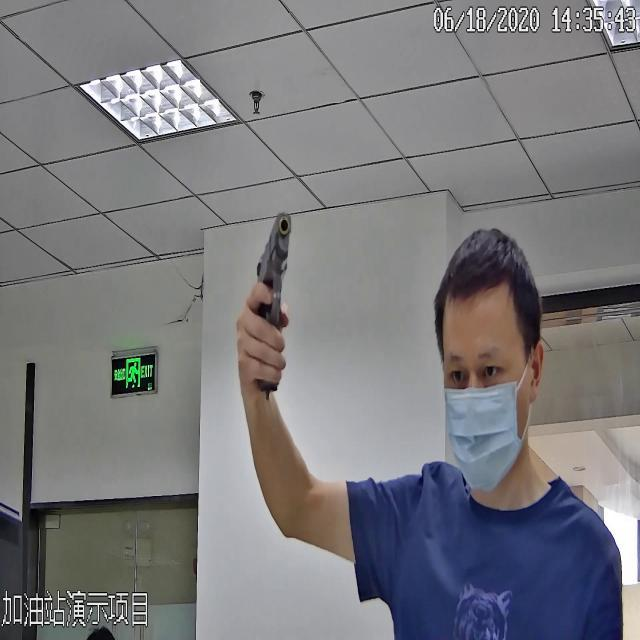gun-knife-thesis - v11 Yolov5 augmented: (235, 214, 299, 394)
